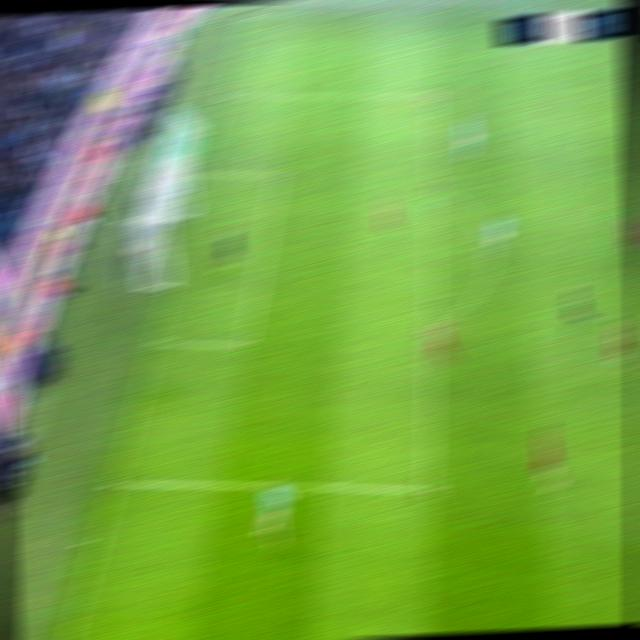bigarea_bottom_inner: (414, 475, 446, 501)
bigarea_bottom_outter: (103, 474, 129, 493)
bigarea_top_inner: (421, 84, 447, 104)
bigarea_top_outter: (213, 87, 238, 104)
bottom_arc_area_intersection: (419, 316, 444, 336)
corner: (234, 8, 263, 24)
smallarea_bottom_inner: (231, 328, 260, 356)
smallarea_bottom_outter: (142, 331, 170, 354)
smallarea_top_inner: (265, 164, 292, 183)
smallarea_top_outter: (190, 164, 218, 182)
top_arc_area_intersection: (423, 179, 447, 199)
